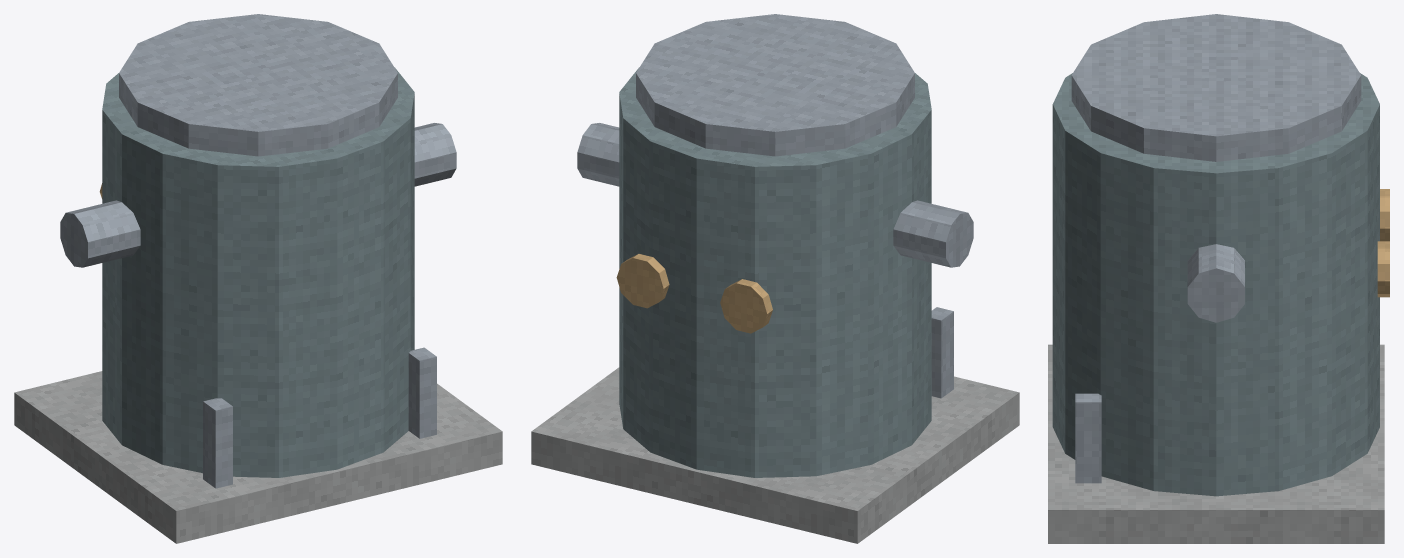
The model's file is level_blockout_cannery_boiler.glb.
3 renders of one model, left to right at view 1: azimuth 30°, elevation 25°; view 2: azimuth 150°, elevation 25°; view 3: azimuth 270°, elevation 25°, orthographic. The views are drawn at different scales.
Parts seen in each view (by area): view 1: level_blockout_cannery_boiler; view 2: level_blockout_cannery_boiler; view 3: level_blockout_cannery_boiler.
Boxes of the visible parts, x1,y1,x2,y2 form: level_blockout_cannery_boiler: (14, 14, 502, 543); level_blockout_cannery_boiler: (531, 14, 1019, 543); level_blockout_cannery_boiler: (1048, 14, 1389, 543).
Bounding box in the file's own units: 2.35 × 2.27 × 1.82.
4 materials, 4 textured.
